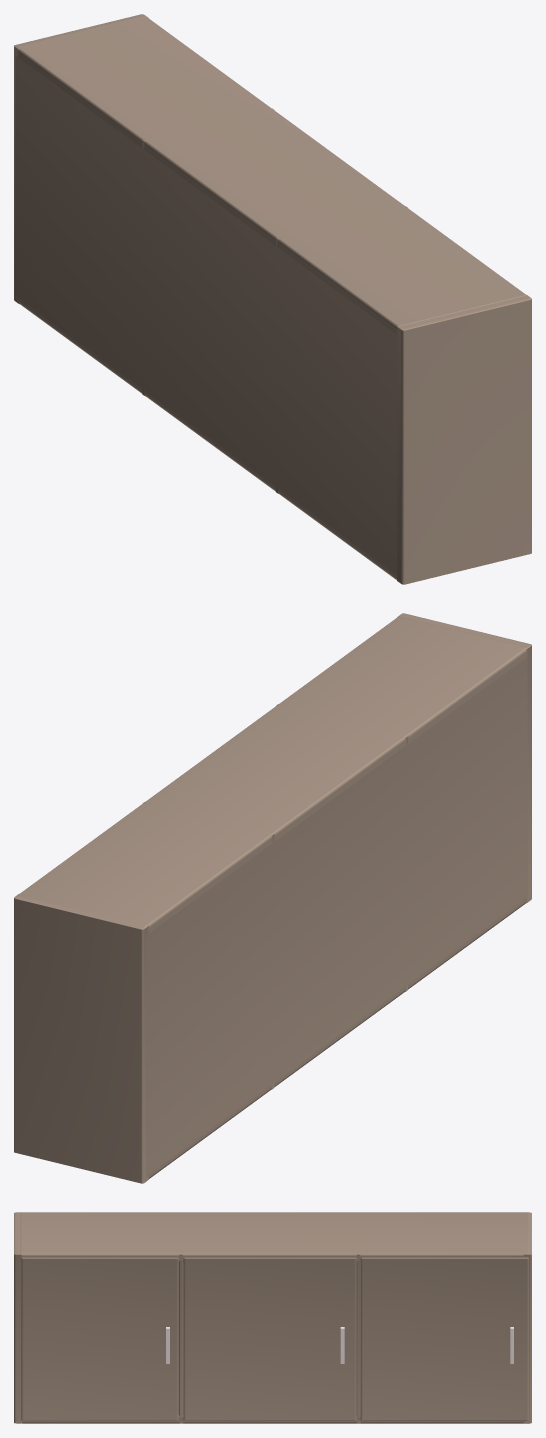
The model's file is Rak kecil kamar.fbx.
3 views of the same model, one above another, from view 1: azimuth 30°, elevation 25°; view 2: azimuth 150°, elevation 25°; view 3: azimuth 270°, elevation 25° (orthographic). The views are drawn at different scales.
Parts seen in each view (by area): view 1: pCube36.002; view 2: pCube36.002; view 3: pCube36.002.
Boxes of the visible parts, box(x1,y1,x2,y2) form: pCube36.002: box(14, 14, 531, 584); pCube36.002: box(14, 613, 531, 1183); pCube36.002: box(14, 1212, 531, 1423).
Bounding box in the file's own units: 33.19 × 57.06 × 158.
